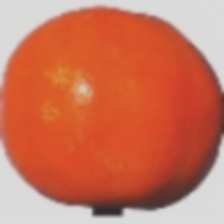tangerine: (57, 38, 191, 212)
